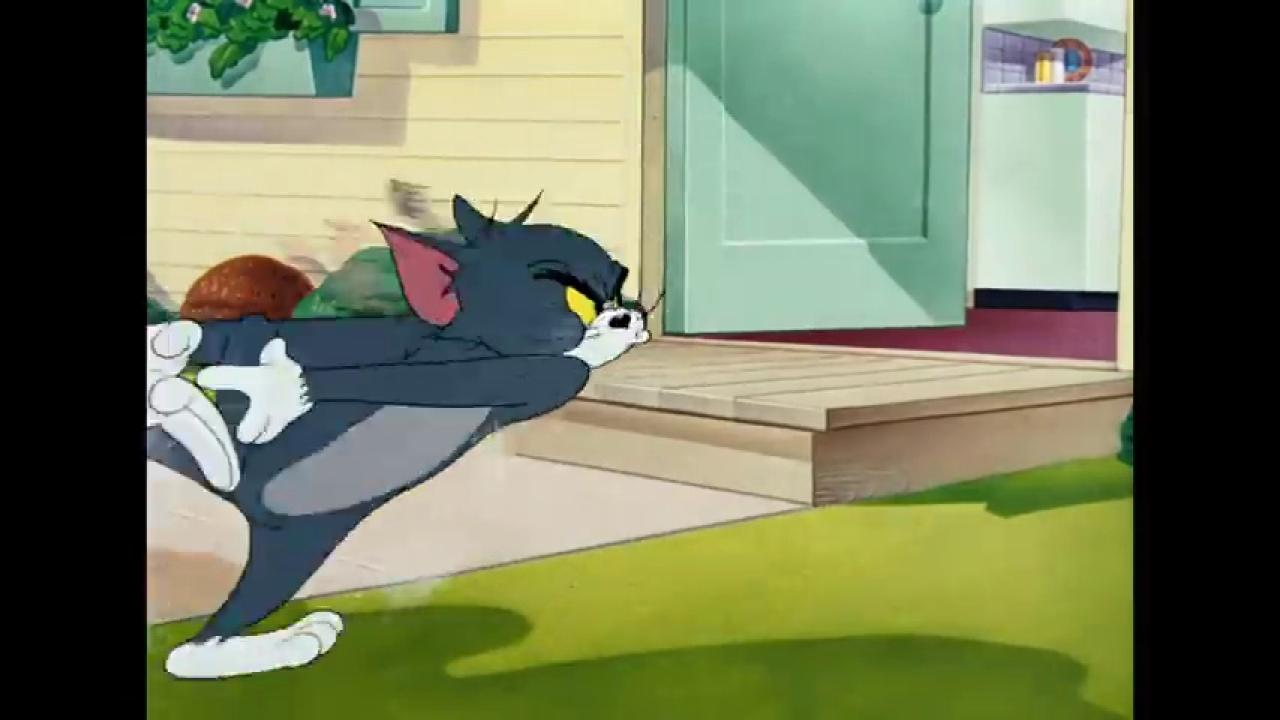Tom: (147, 189, 652, 682)
